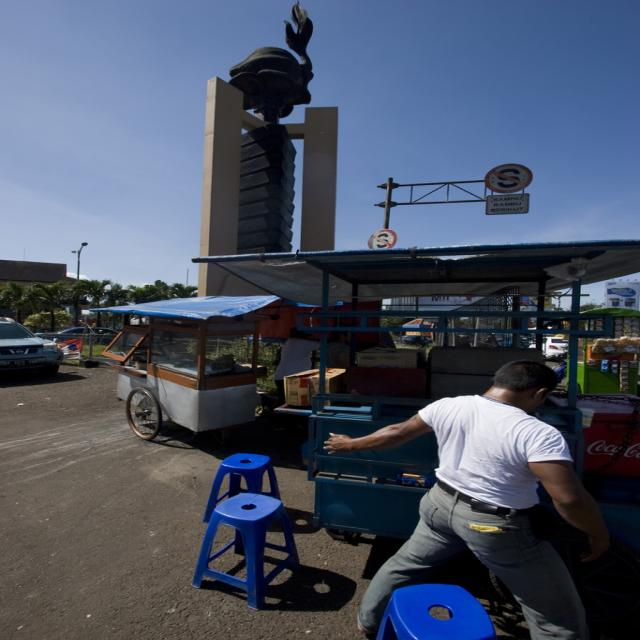car: (0, 324, 68, 376)
